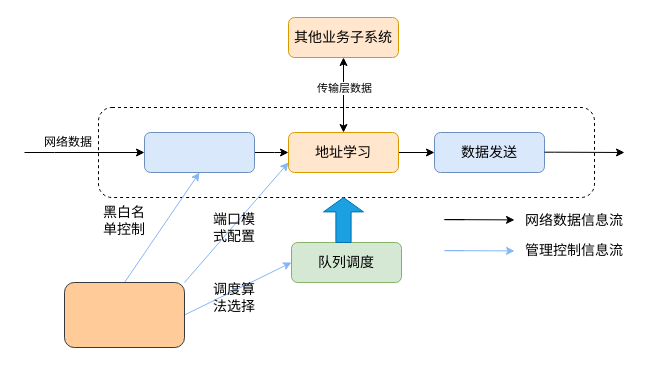
This 650x365 diagram has some shape labels left out. Here are the shapes that lost their labels. From the top down, the box of each, then its label:
(144, 132, 254, 172): 数据接收
(64, 282, 184, 348): 系统管理 子系统
